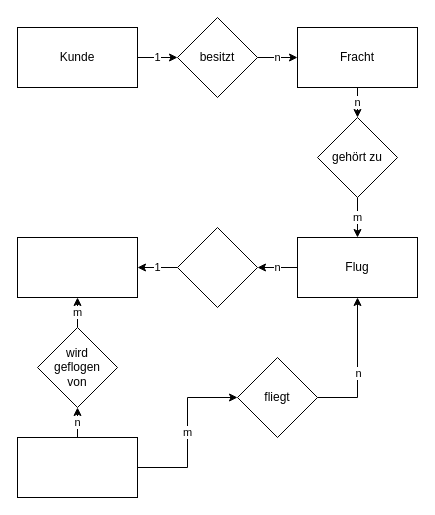
The diagram is 435 pixels wide and 515 high, and some of its shapes have lost their labels. Each missing label, with the centre of its shape:
Flugzeug: point 77,267
Pilot: point 77,467
wird ausgeführt von: point 217,267
